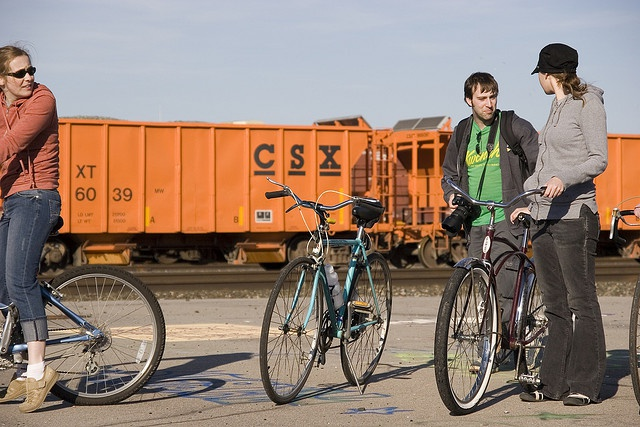non-vehicle: (261, 174, 398, 406), (429, 175, 545, 413), (1, 265, 167, 404), (607, 193, 640, 409)
